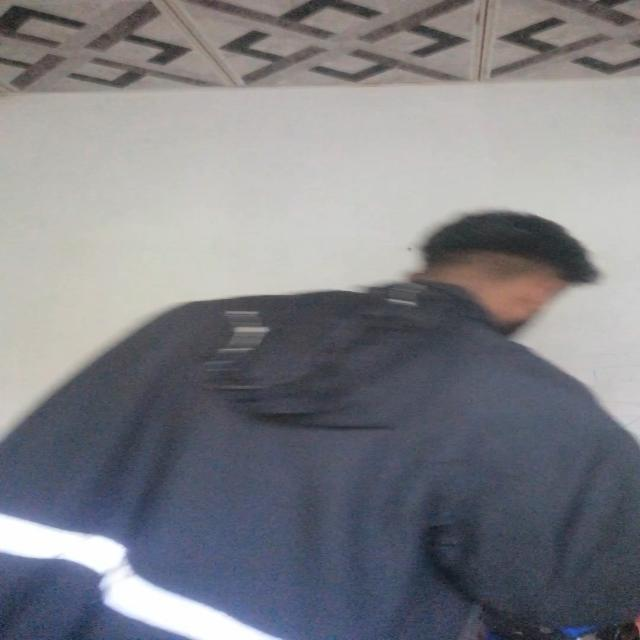Jacket_Wearer: (4, 293, 640, 640)
Person: (0, 186, 640, 640)
